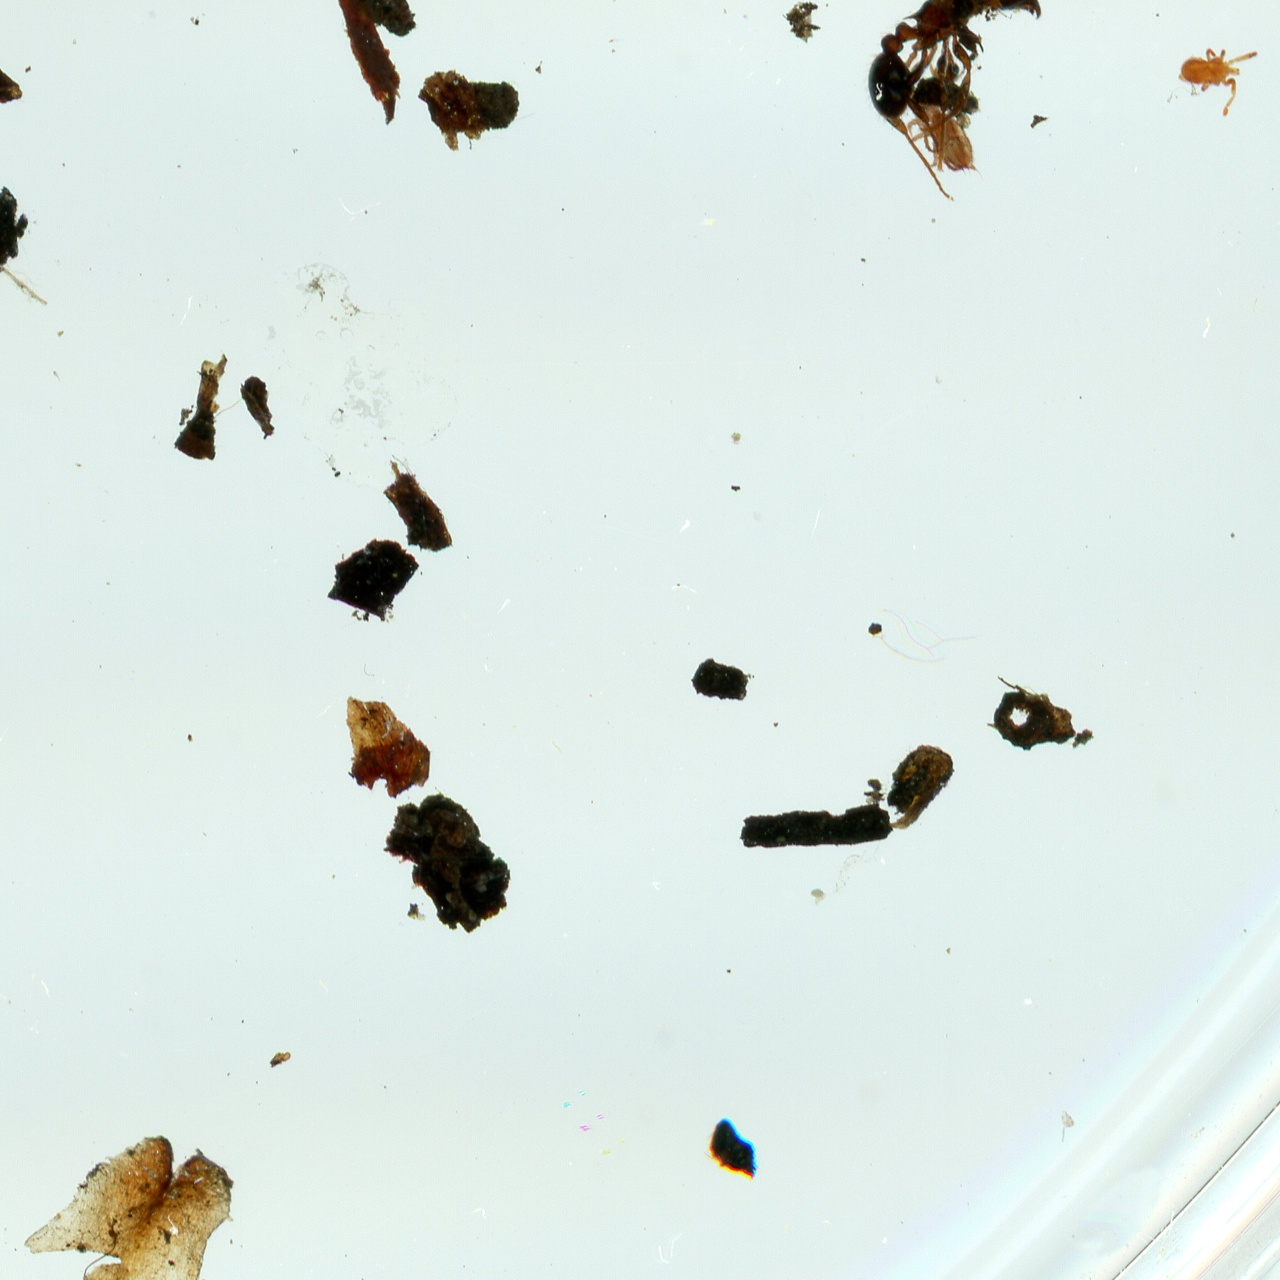arthropod: (822, 0, 1132, 234), (1177, 45, 1261, 119), (906, 114, 983, 176)
